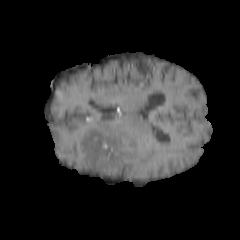glioma: (79, 127, 148, 171)
